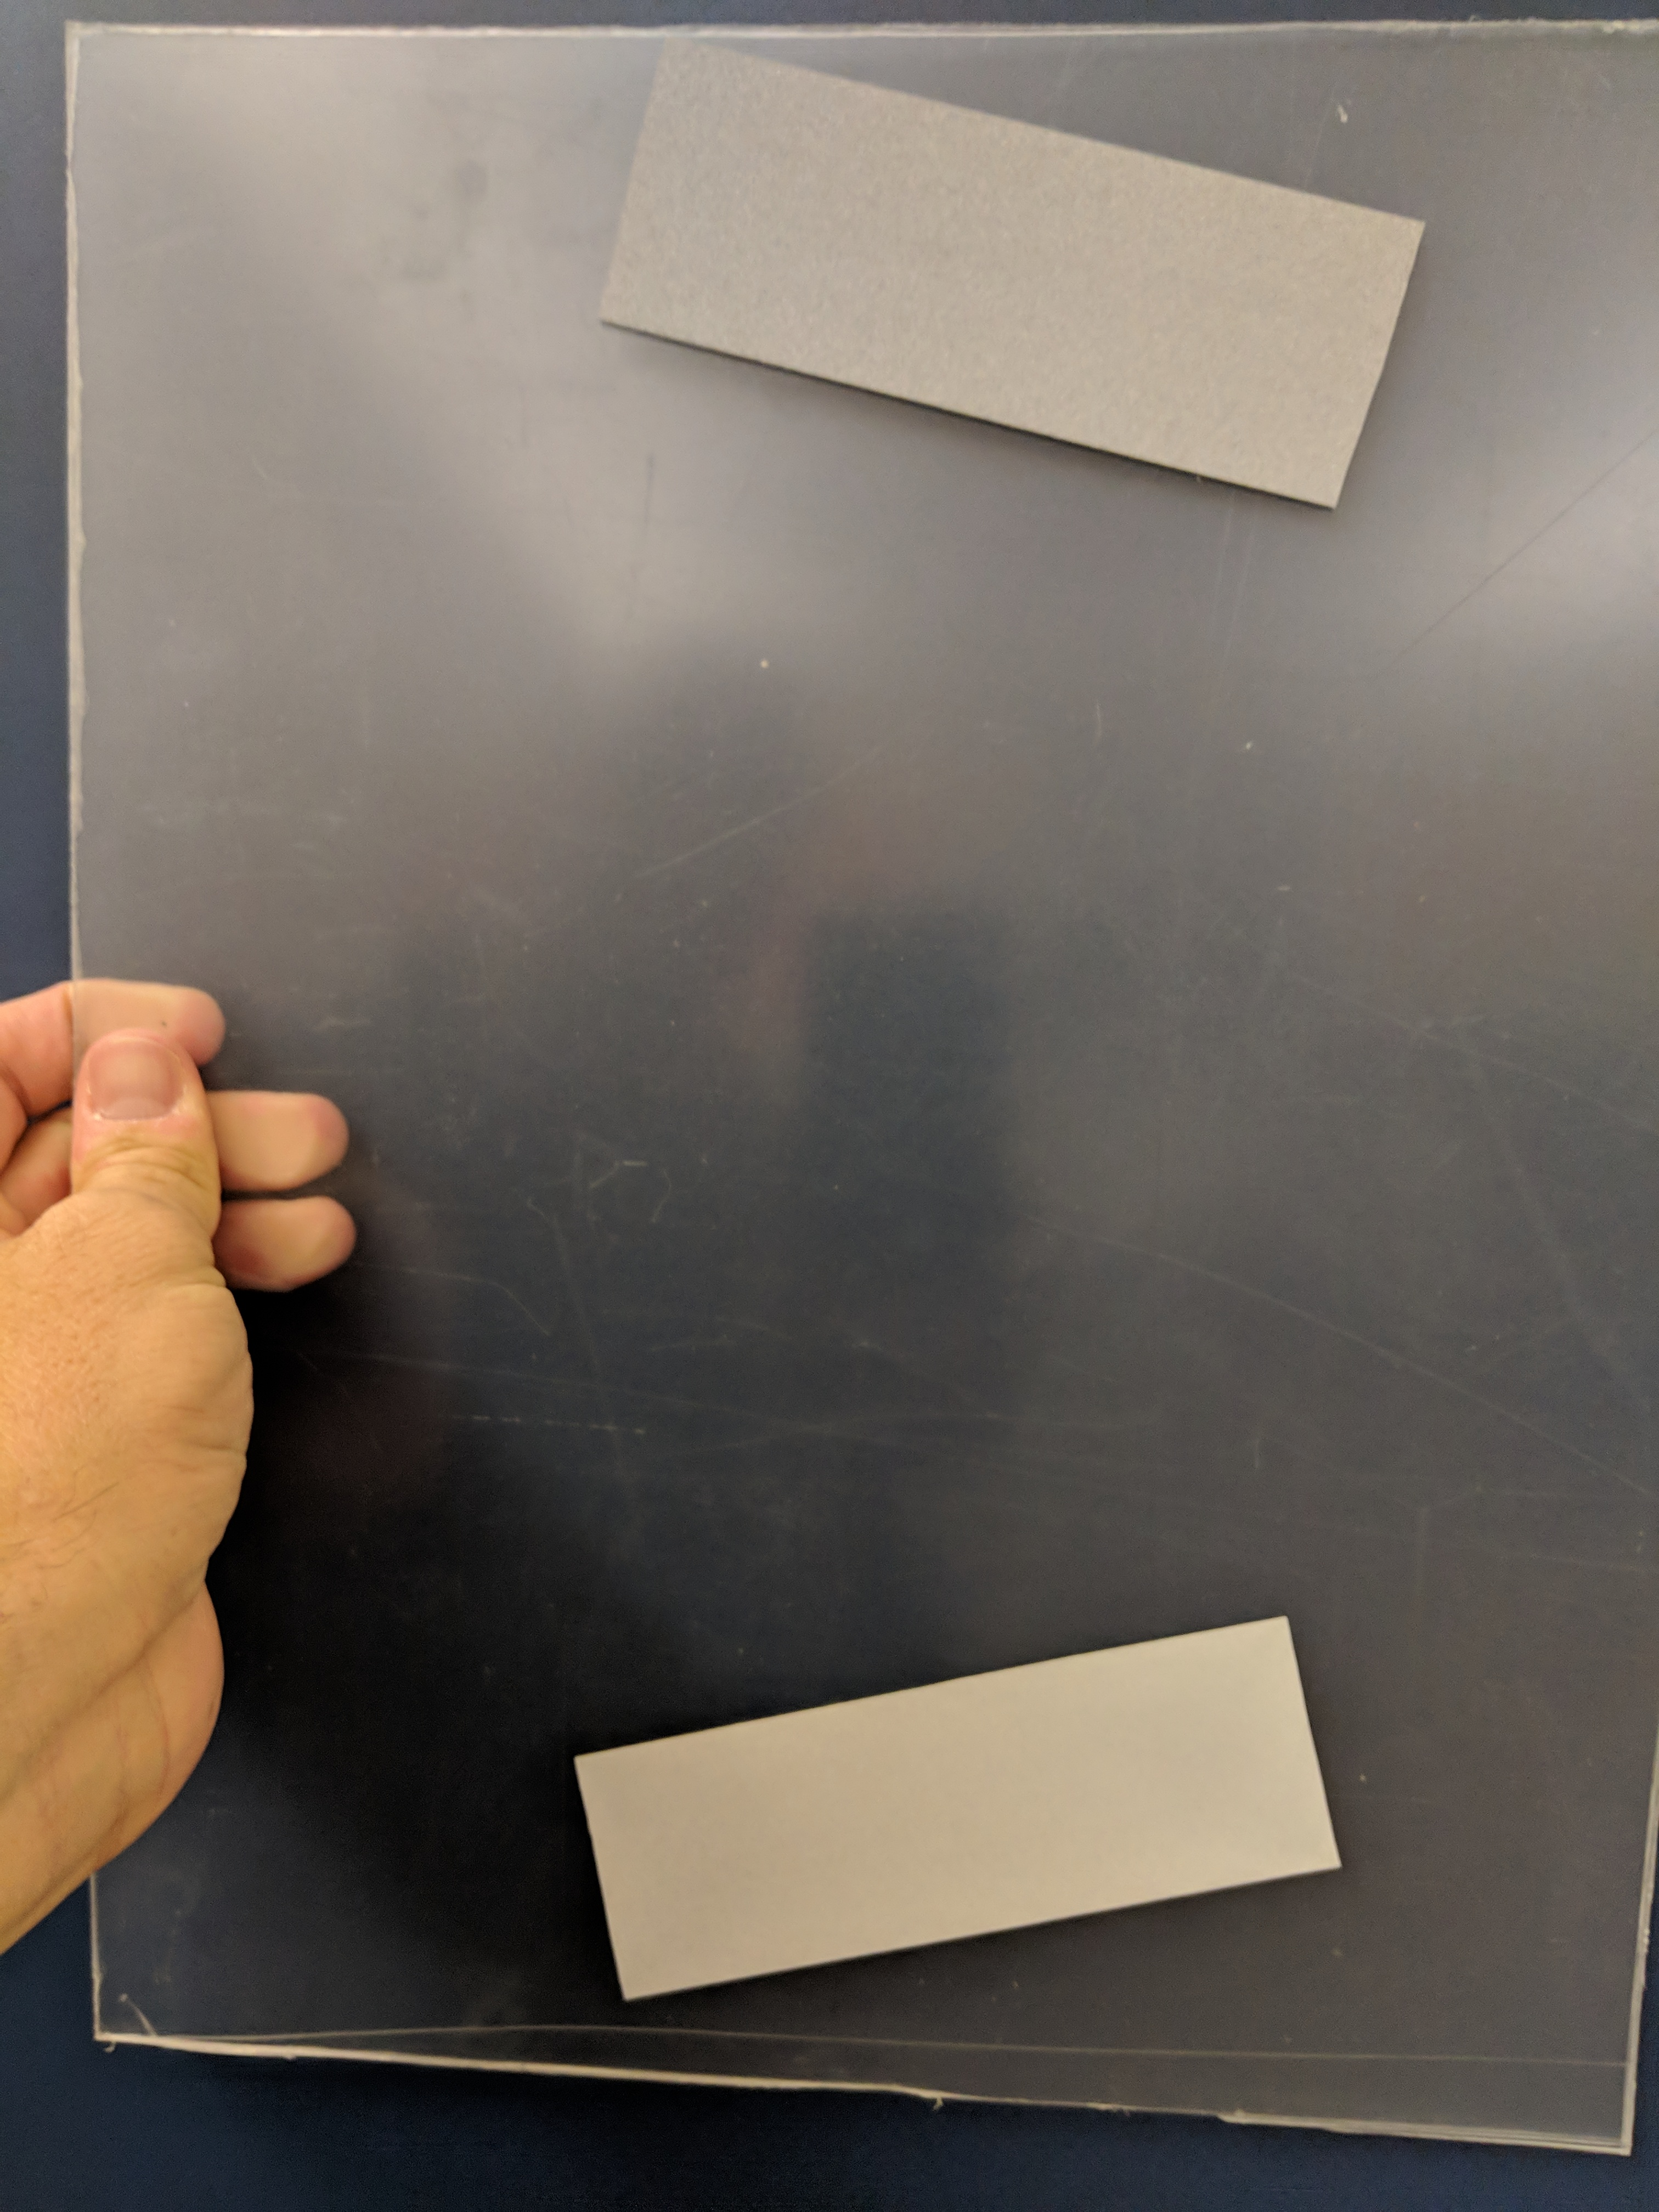vision_target: (551, 28, 1439, 2043)
